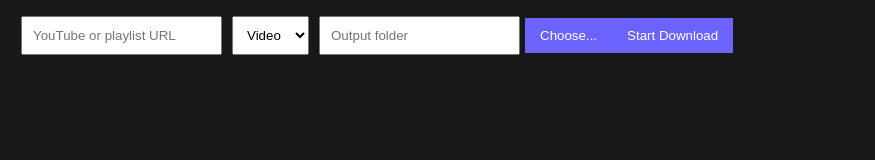
Scenario: DownloadPanel › check progress fetches and displays progress
In the field with placeholder "YouTube or playlist URL": (122, 36) [21,16,222,55], type "https://example.com"
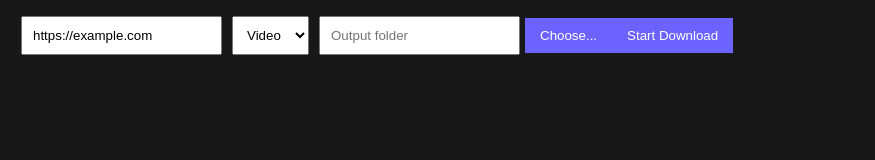
In the field with placeholder "Output folder": (420, 36) [319,16,520,55], type "/tmp/out"
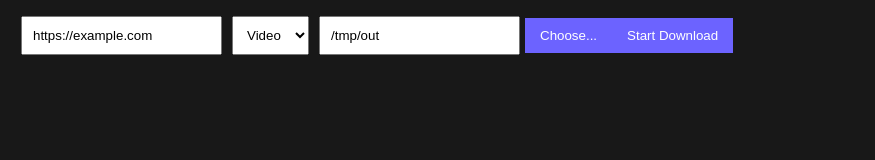
Click the button "Start Download": (673, 36) [612,18,733,53]
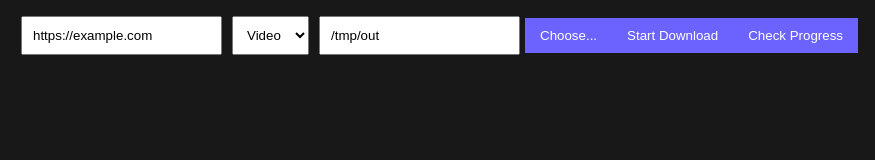
Result: the button "Check Progress" is shown
Click the button "Check Progress": (796, 36) [733,18,858,53]
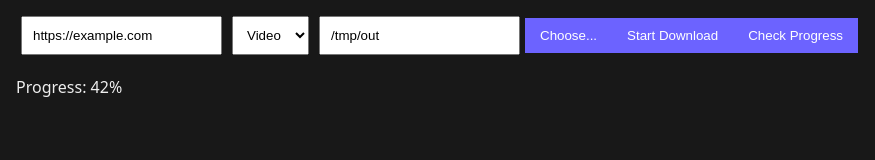
Result: the text "Progress: 42%" is shown at [16,76,122,98]
